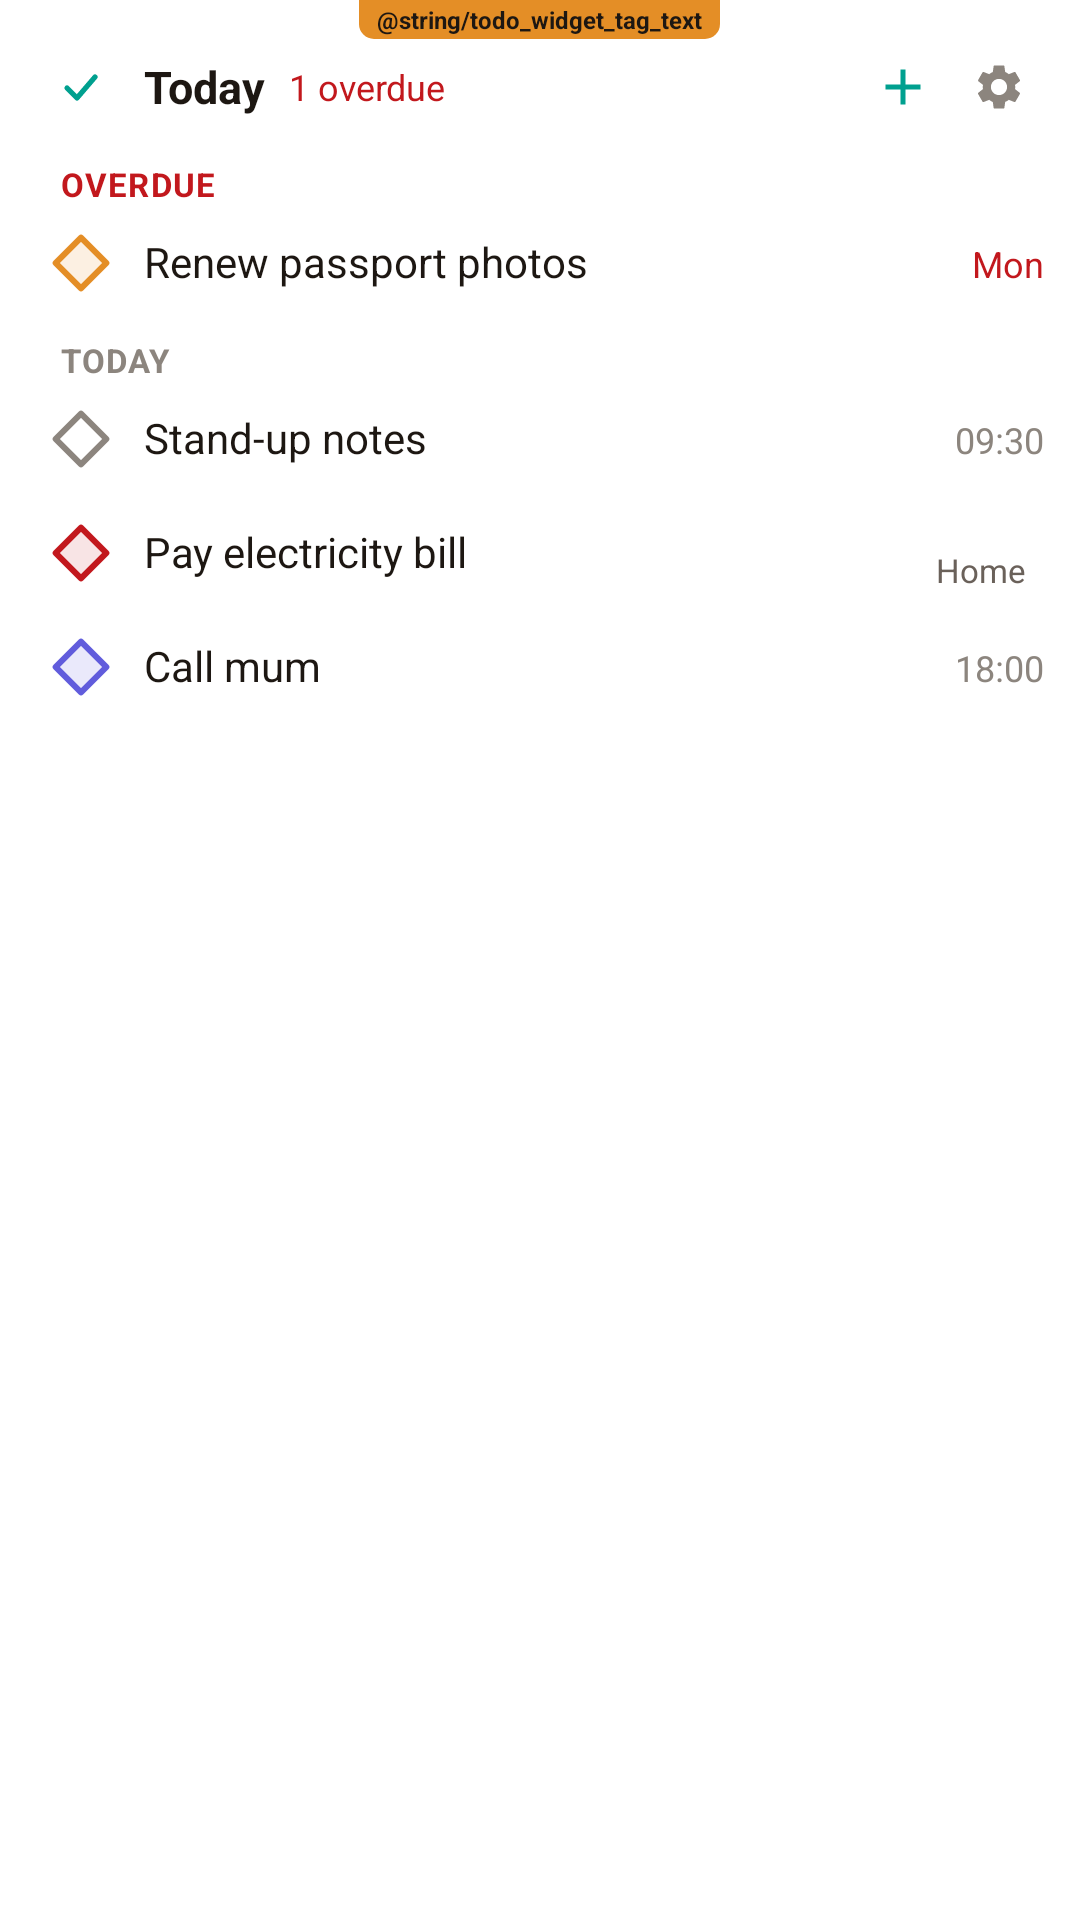

Named icons in this screenshot (1080w x 1920h) and their centers, (x=x, y=y):
widget check: (x=81, y=87)
widget diamond edge: (x=81, y=263), (x=81, y=439), (x=81, y=553), (x=81, y=667)
widget gear: (x=999, y=87)
widget plus: (x=903, y=87)
